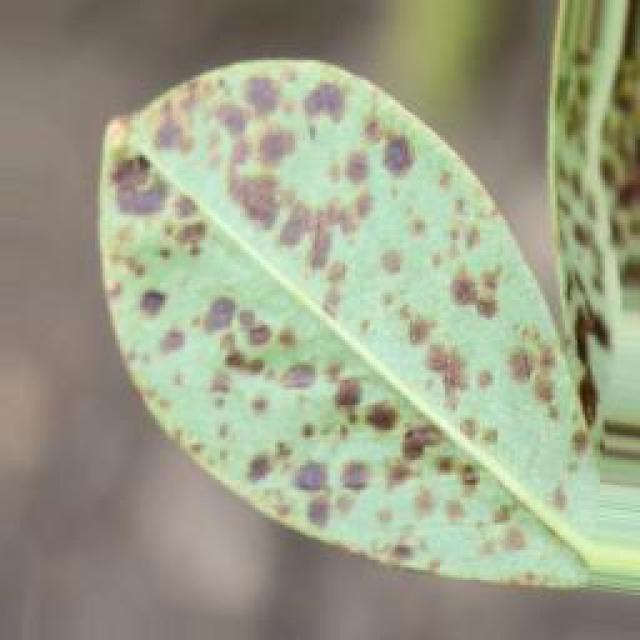Whitefly: (55, 0, 615, 588)
